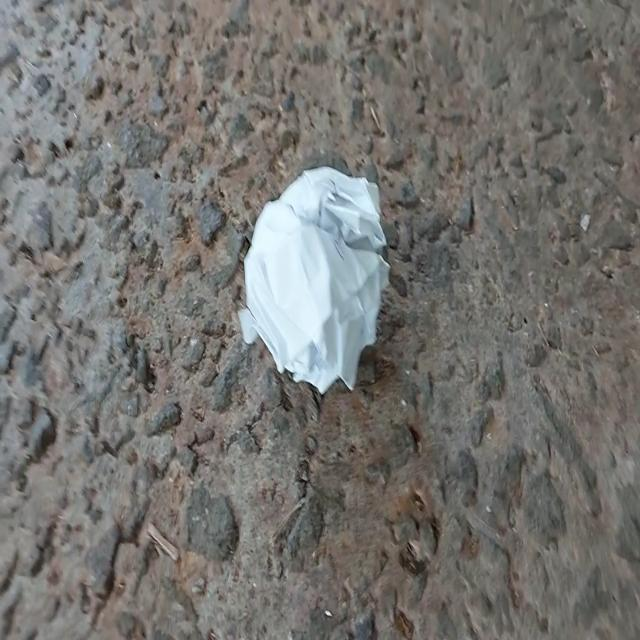Paper: (215, 146, 403, 403)
